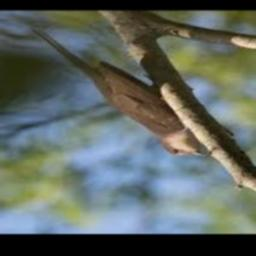Cuckoo: (31, 26, 208, 157)
